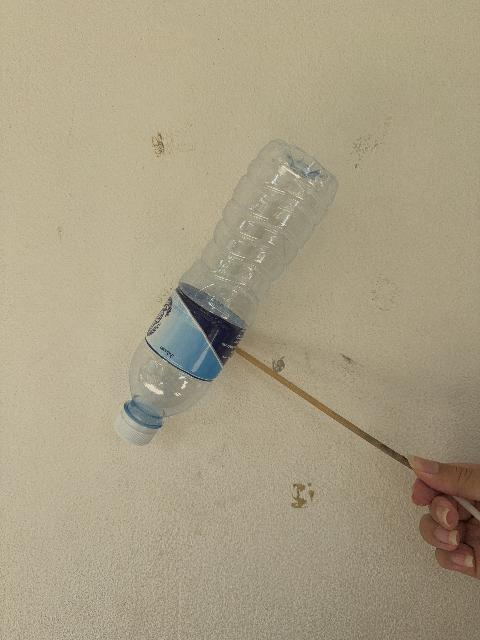bottle: (115, 140, 337, 444)
